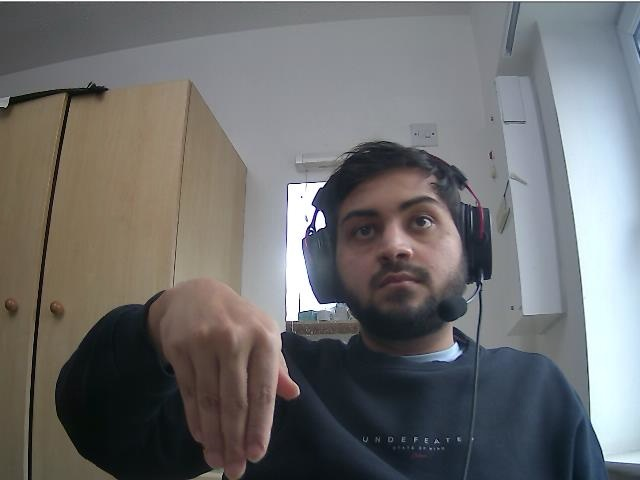down: (158, 278, 296, 480)
